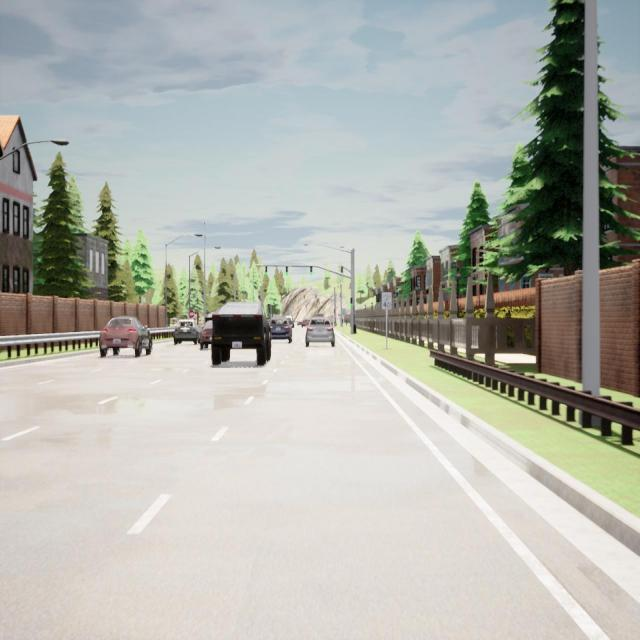Traffic_Signs: (382, 292, 392, 310), (189, 310, 194, 317)
Vehicle: (212, 301, 272, 366), (99, 316, 153, 357), (306, 318, 335, 347), (174, 320, 200, 345), (270, 317, 292, 344), (200, 320, 212, 350), (286, 316, 294, 328), (300, 318, 308, 328), (297, 319, 302, 325)
traffic_light: (266, 266, 268, 276), (350, 298, 352, 308), (286, 267, 288, 275), (310, 267, 312, 275), (341, 267, 343, 272)
